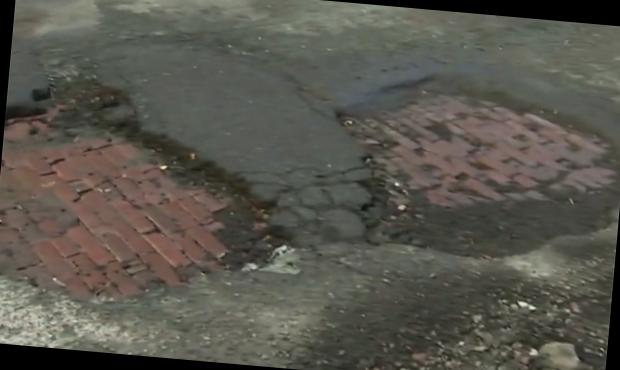pothole: (0, 0, 620, 370), (0, 65, 282, 319), (329, 77, 620, 225)
